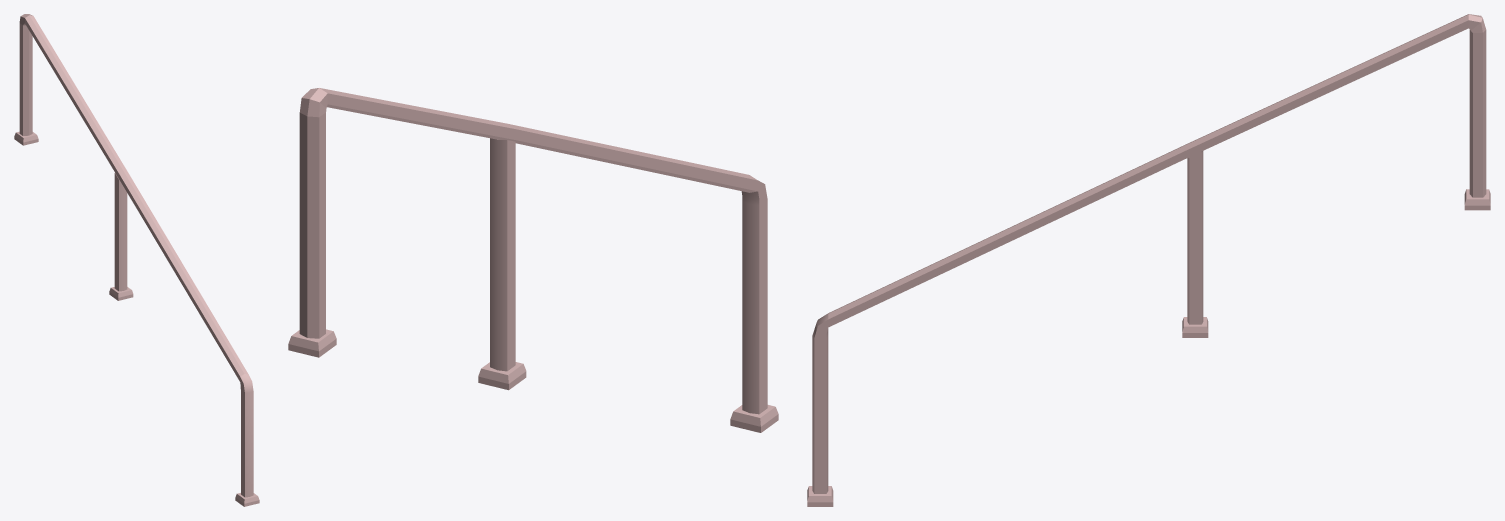
File: Module_Ss_bar_ramp_B1.FBX
The picture shows the model from 3 angles, left to right: view 1: azimuth 30°, elevation 25°; view 2: azimuth 150°, elevation 25°; view 3: azimuth 270°, elevation 25°; orthographic projection. The views are drawn at different scales.
Parts seen in each view (by area): view 1: Module_Ss_bar_ramp_B1; view 2: Module_Ss_bar_ramp_B1; view 3: Module_Ss_bar_ramp_B1.
Boxes of the visible parts, bbox=[...] form: Module_Ss_bar_ramp_B1: bbox=[14, 14, 259, 506]; Module_Ss_bar_ramp_B1: bbox=[288, 88, 778, 432]; Module_Ss_bar_ramp_B1: bbox=[807, 14, 1490, 506].
Size of the model in its own units: 2.75 by 56.1 by 71.42.
